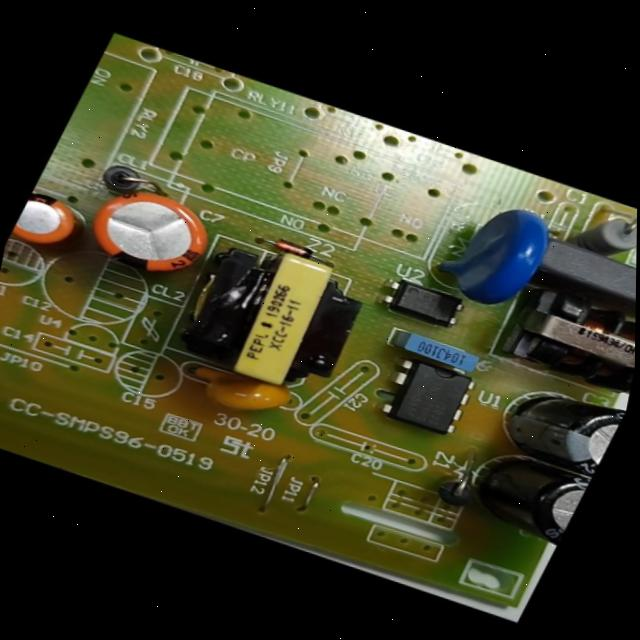Cap1: (61, 161, 244, 305)
Cap2: (7, 182, 97, 263)
Cap3: (482, 365, 630, 483)
Cap4: (452, 436, 595, 553)
MOSFET: (367, 345, 488, 448)
Mov: (419, 183, 570, 325)
Resistor: (565, 203, 637, 266)
Transformer: (150, 214, 391, 414), (473, 264, 636, 403)
